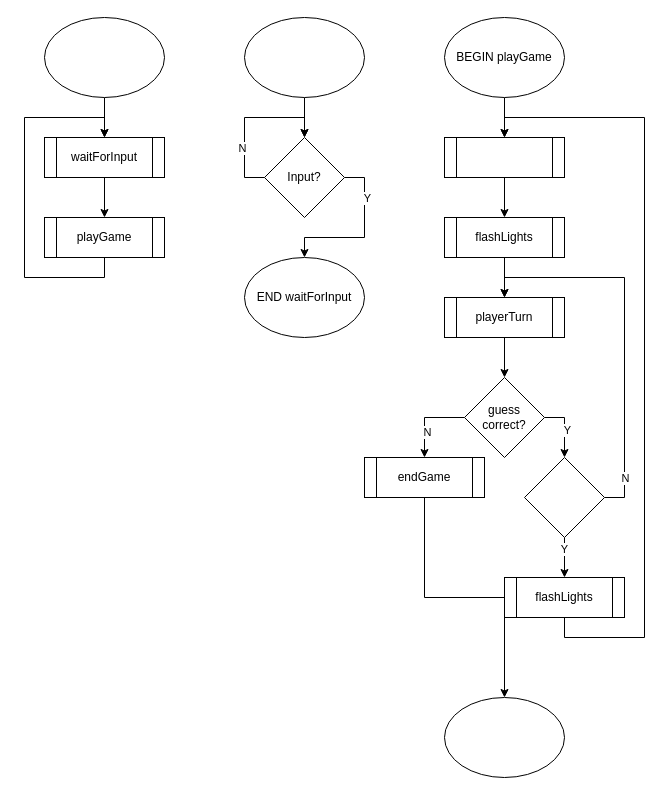
The diagram is 670 pixels wide and 795 high, and some of its shapes have lost their labels. Here are the shapes that lost their labels. From the top down, the box of each, then its label:
(44, 16, 164, 98): BEGIN Main LOOP
(244, 16, 364, 98): BEGIN waitForInput
(444, 136, 564, 178): createSequence
(524, 456, 604, 538): end of turn?
(444, 696, 564, 778): END playGame
